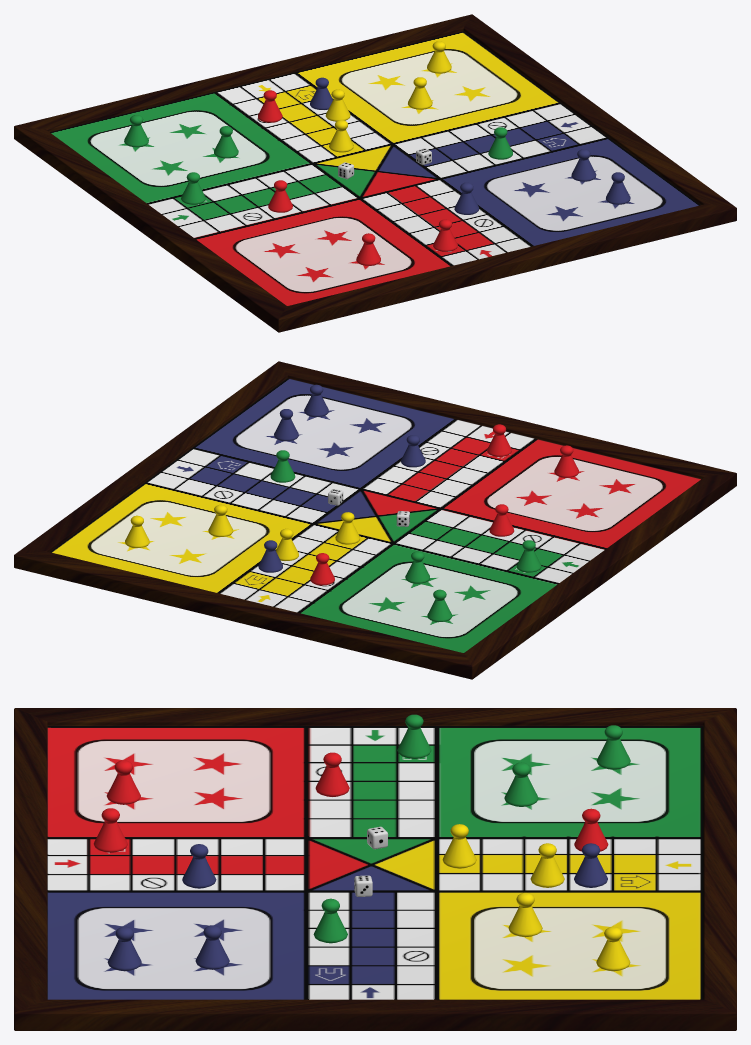
3 views of the same model, one above another, from view 1: azimuth 30°, elevation 25°; view 2: azimuth 150°, elevation 25°; view 3: azimuth 270°, elevation 25° (orthographic). The views are drawn at different scales.
Visible parts, largest first — view 1: Board Baked, Pawn.005, Pawn.002, Pawn.012, Pawn.013, Pawn.001, Pawn.007, Pawn.009, Pawn.004, Pawn.010, Pawn.016, Pawn.008 (+4 smaller); view 2: Board Baked, Pawn.008, Pawn.005, Pawn.010, Pawn.011, Pawn.014, Pawn.009, Pawn.016, Pawn.001, Pawn.004, Pawn.007, Pawn.013 (+4 smaller); view 3: Board Baked, Pawn.009, Pawn.011, Pawn.016, Pawn.014, Pawn.006, Pawn.007, Pawn.001, Pawn.004, Pawn.012, Pawn.002, Pawn.005 (+5 smaller).
Boxes of the visible parts, x1,y1,x2,y2 form: Board Baked: (14, 14, 736, 332); Pawn.005: (181, 172, 205, 204); Pawn.002: (571, 149, 596, 181); Pawn.012: (214, 126, 238, 158); Pawn.013: (427, 41, 451, 73); Pawn.001: (454, 182, 479, 214); Pawn.007: (268, 180, 292, 212); Pawn.009: (433, 219, 457, 251); Pawn.004: (356, 233, 380, 265); Pawn.010: (488, 127, 512, 159); Pawn.016: (329, 120, 353, 152); Pawn.008: (258, 90, 282, 122); Board Baked: (14, 361, 736, 679); Pawn.008: (310, 553, 334, 585); Pawn.005: (516, 540, 541, 572); Pawn.010: (270, 450, 295, 482); Pawn.011: (427, 589, 452, 622); Pawn.014: (208, 504, 233, 537); Pawn.009: (487, 424, 511, 456); Pawn.016: (335, 512, 360, 544); Pawn.001: (401, 435, 425, 467); Pawn.004: (554, 445, 578, 477); Pawn.007: (489, 504, 514, 536); Pawn.013: (125, 515, 149, 548); Board Baked: (14, 708, 736, 1030); Pawn.009: (93, 808, 127, 852); Pawn.011: (596, 725, 630, 769); Pawn.016: (442, 824, 476, 868); Pawn.014: (508, 892, 542, 937); Pawn.006: (530, 843, 564, 887); Pawn.007: (315, 752, 349, 796); Pawn.001: (182, 844, 216, 888); Pawn.004: (106, 760, 140, 804); Pawn.012: (504, 762, 538, 806); Pawn.002: (195, 925, 229, 969); Pawn.005: (397, 714, 431, 758).
Bounding box in the file's own units: 0.6708 × 0.0522 × 0.6708.
Materials: 4 (4 with a texture image).
